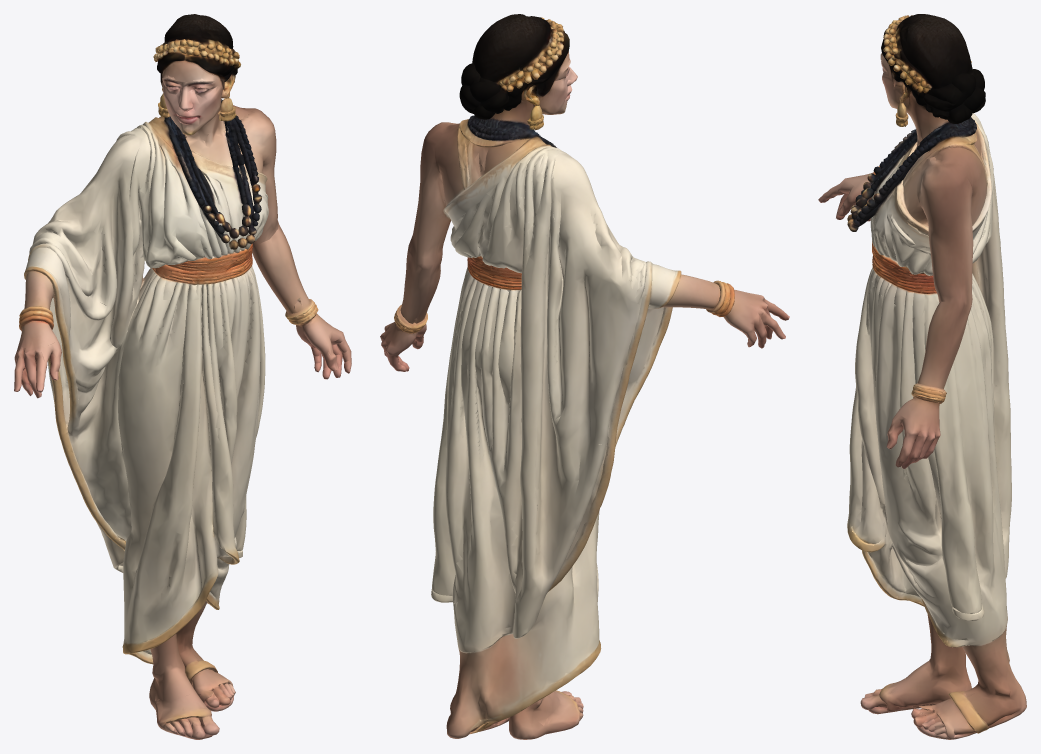
Rendered from crowd_noble_girl_rodin_source.glb.
3 renders of one model, left to right at view 1: azimuth 30°, elevation 25°; view 2: azimuth 150°, elevation 25°; view 3: azimuth 270°, elevation 25°, orthographic.
Visible parts, largest first — view 1: model; view 2: model; view 3: model.
Boxes of the visible parts, x1=… form: model: x1=14, y1=14, x2=351, y2=739; model: x1=380, y1=14, x2=789, y2=739; model: x1=818, y1=14, x2=1026, y2=739.
Size of the model in its own units: 1.04 by 1.9 by 0.5124.
Materials: 1 (1 with a texture image).
